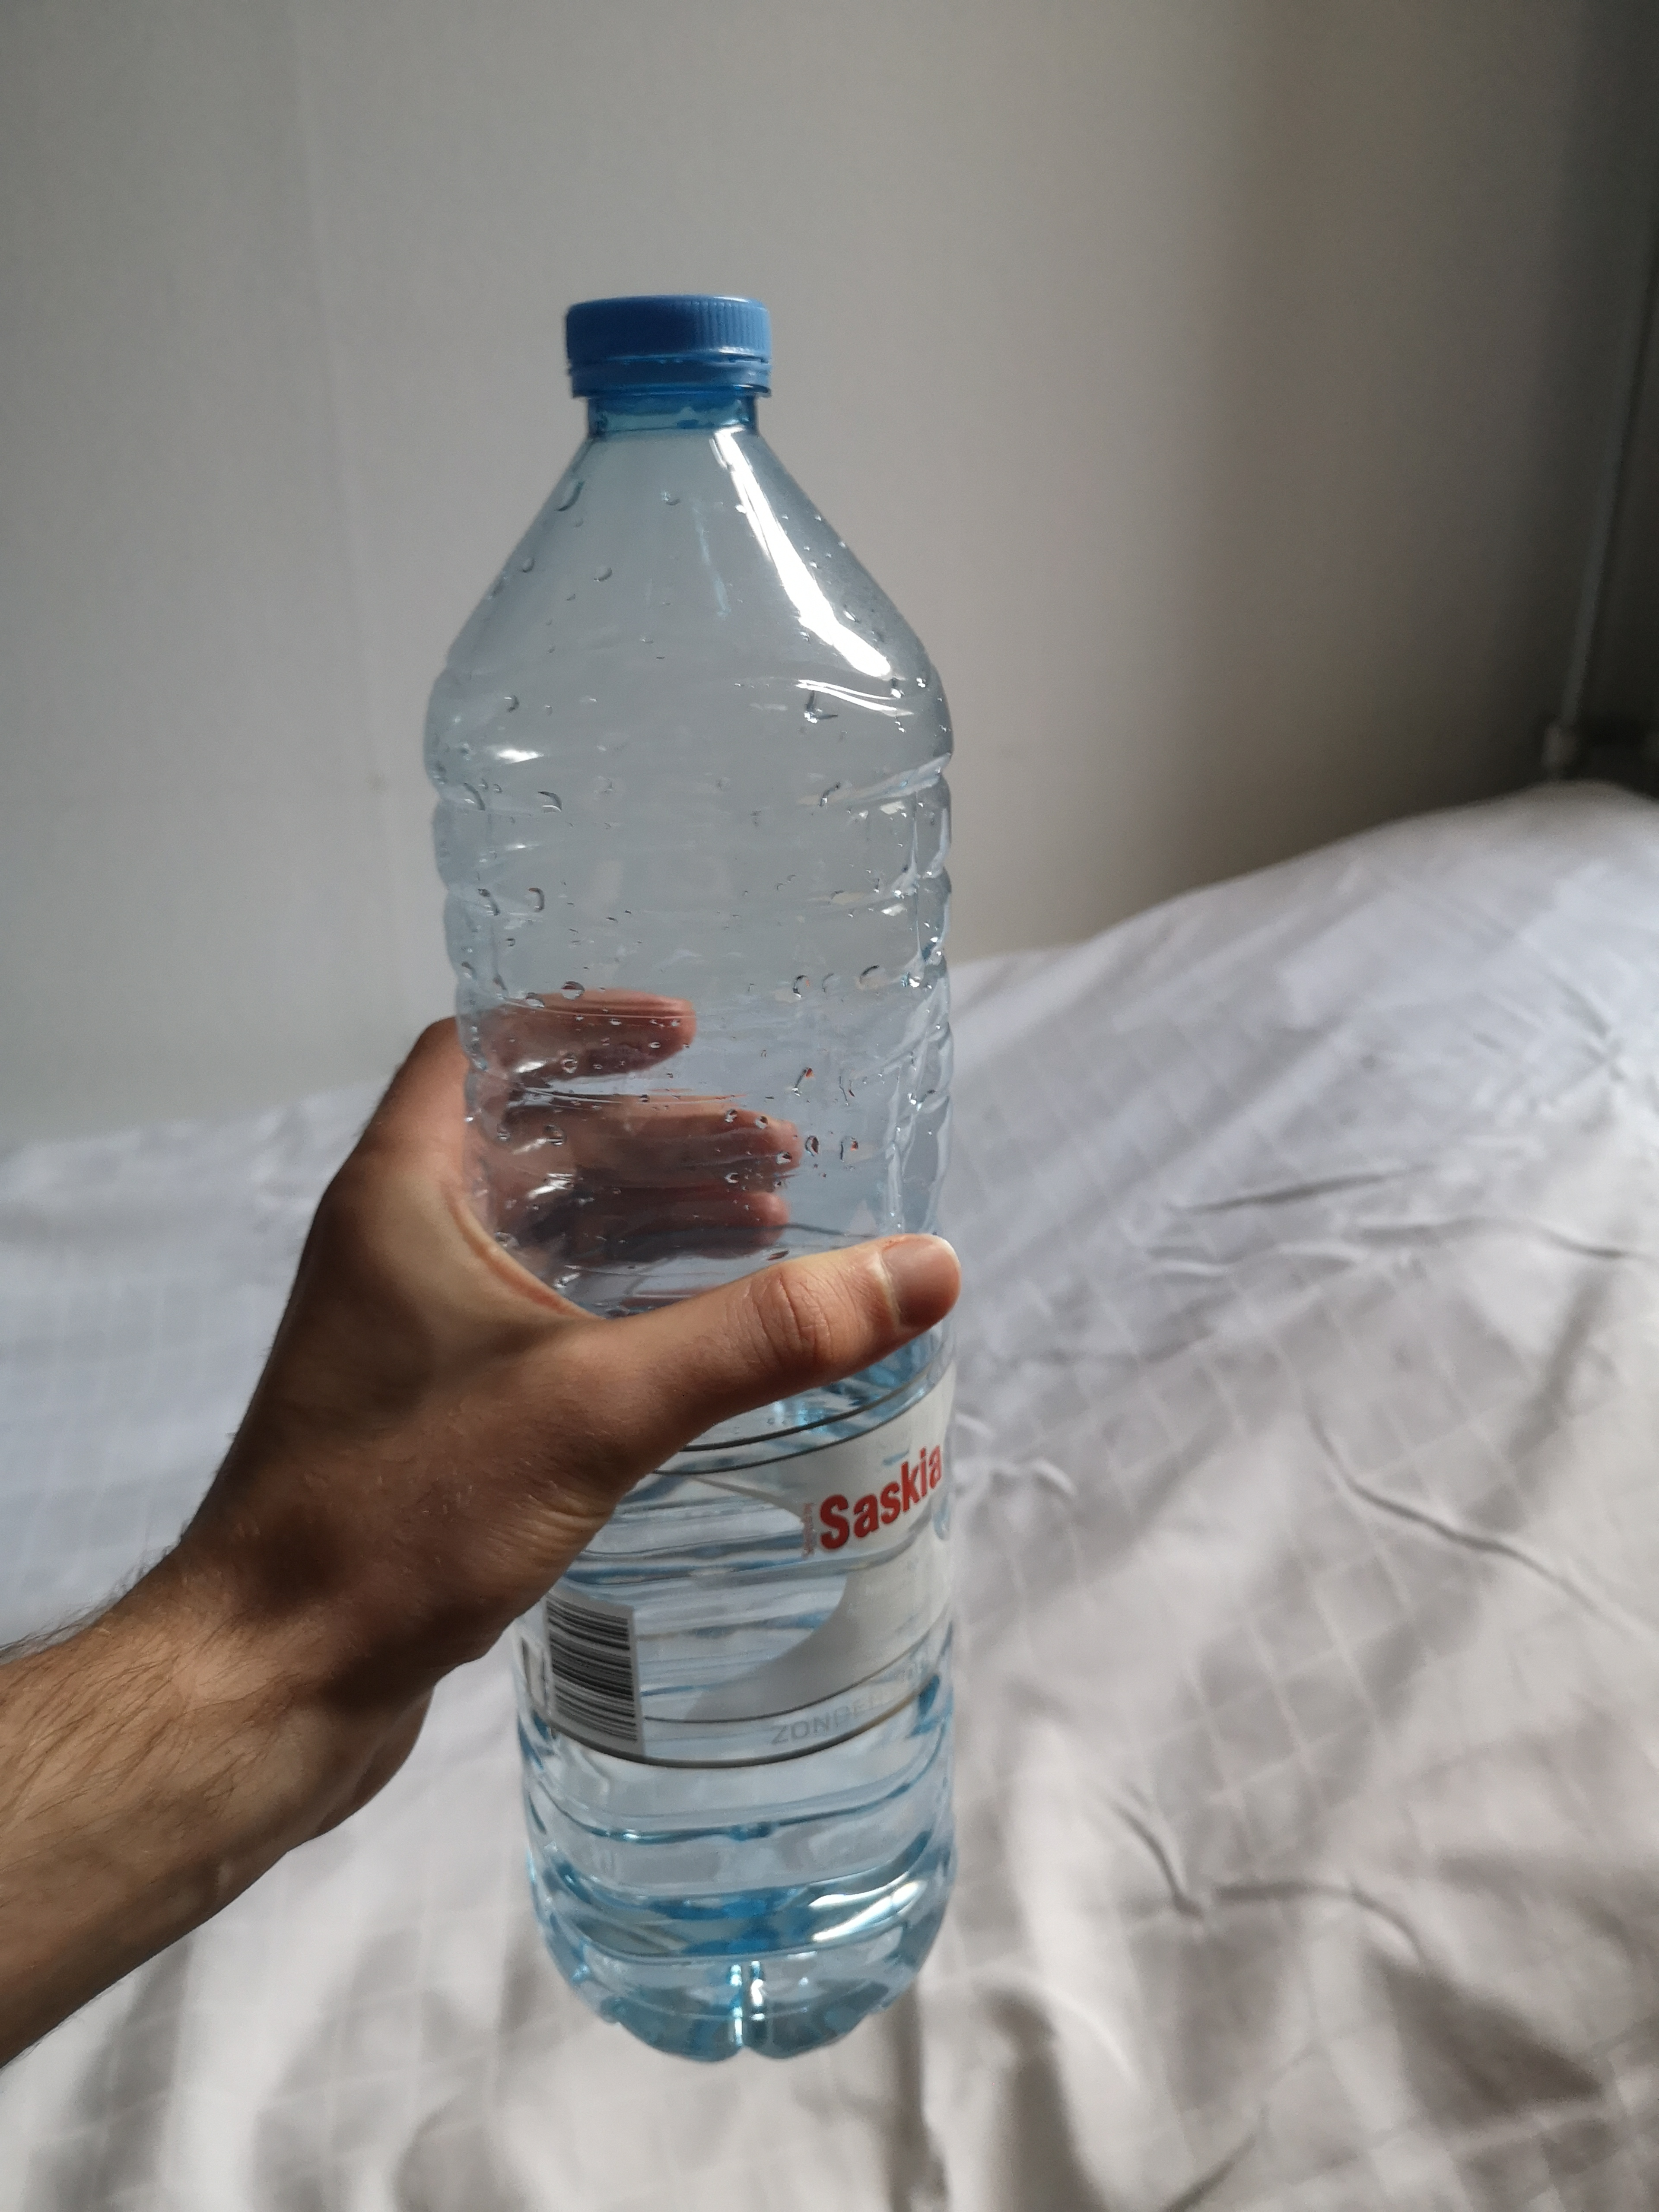plastic_bottle: (401, 249, 993, 2088)
